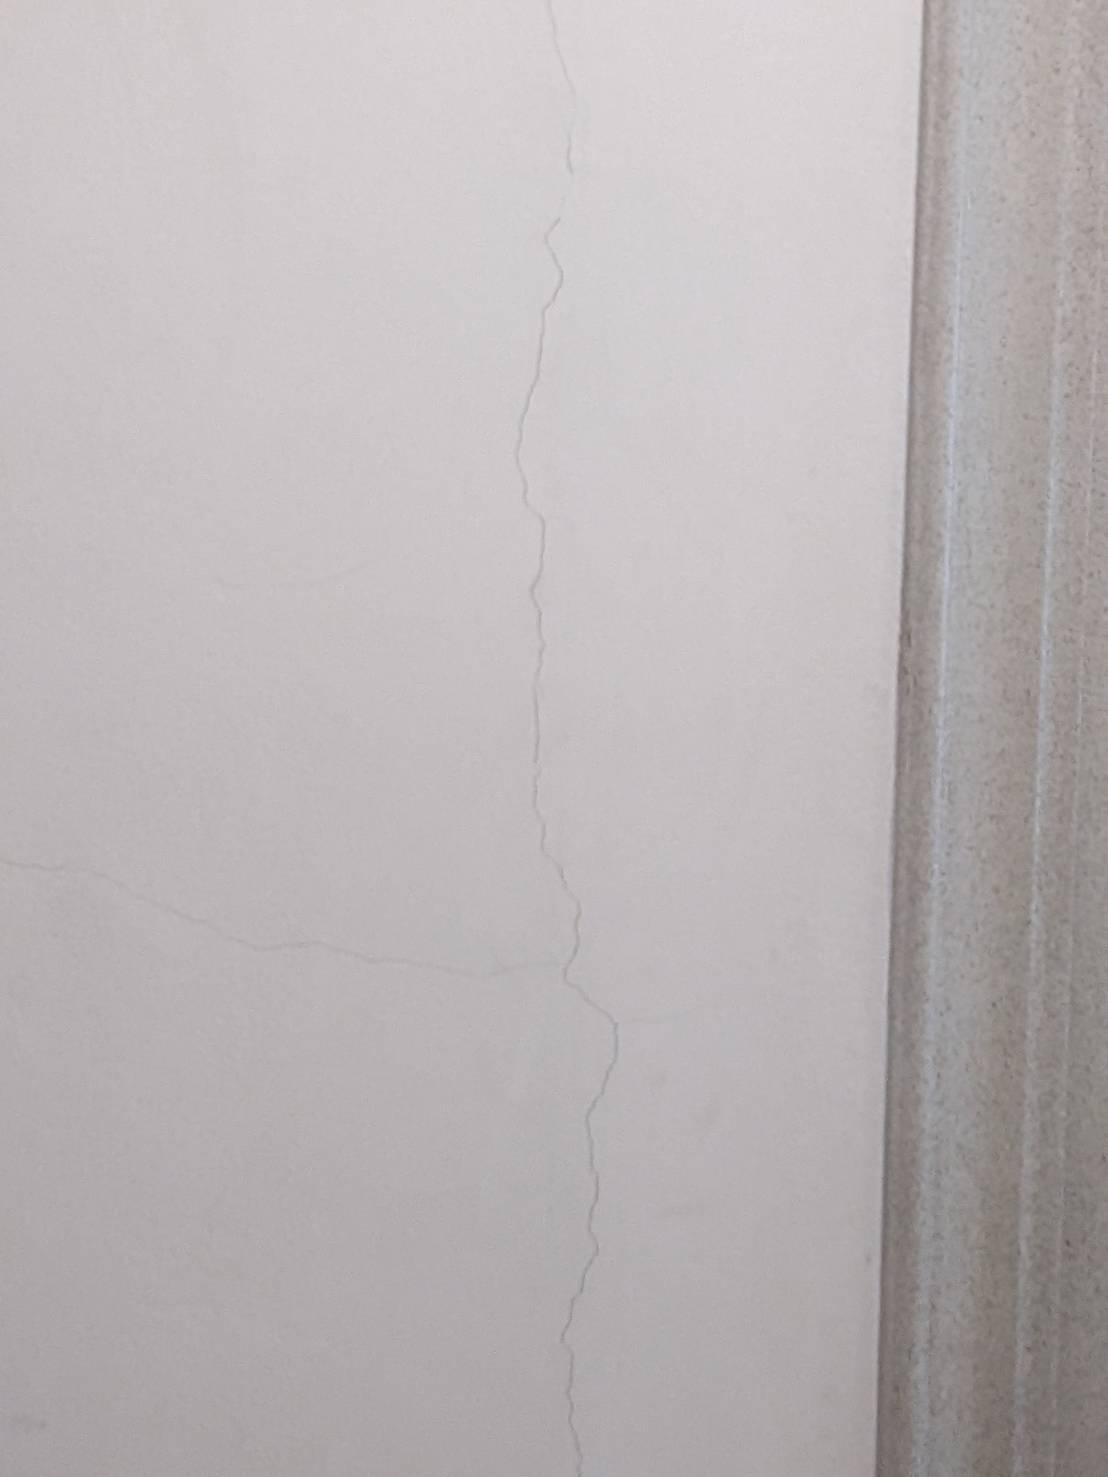Low: (1, 1, 839, 1477)
